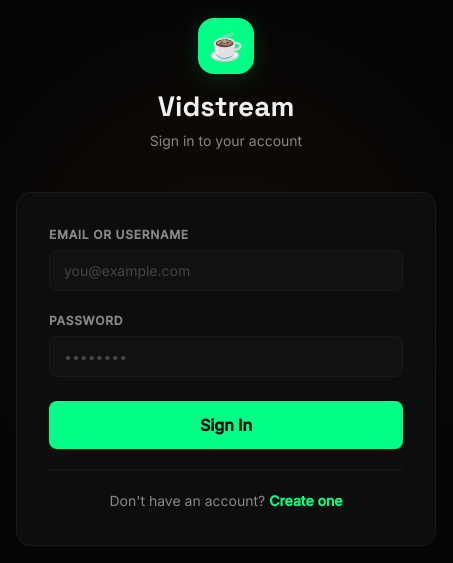
Login component › shows loading spinner during submission
Type "user@example.com" into the field with placeholder "you@example.com".
click(226, 271); type("user@example.com")  # box x1=49 y1=250 x2=403 y2=291
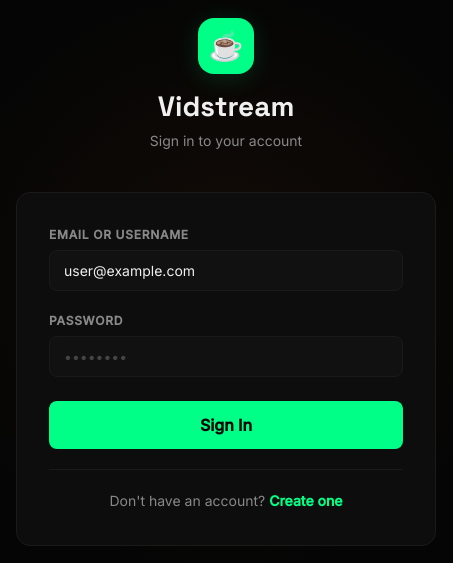
Type "password123" into the password field with placeholder "••••••••".
click(226, 357); type("password123")  # box x1=49 y1=336 x2=403 y2=378
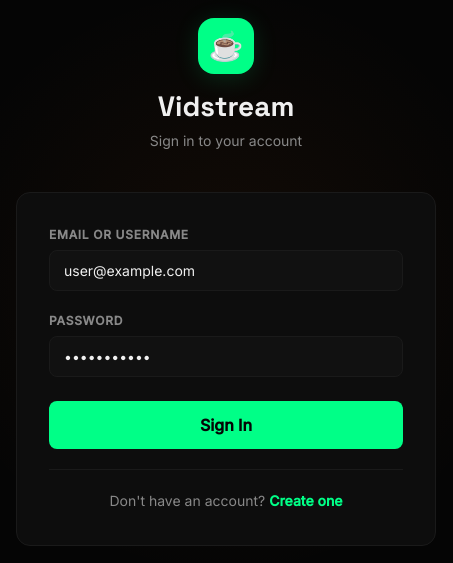
Click the button "Sign In".
click(226, 426)  # box x1=49 y1=402 x2=403 y2=450
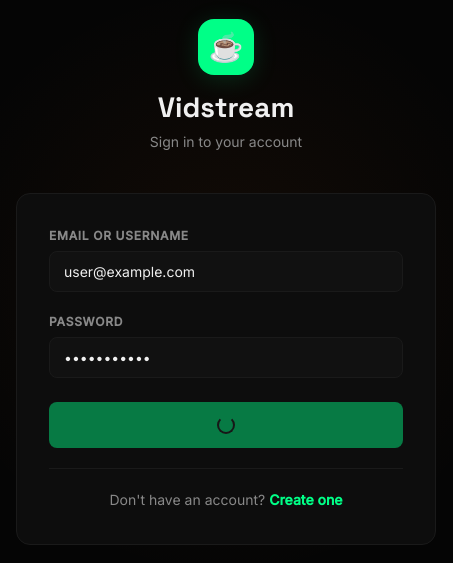
Check: the button is disabled, box x1=49 y1=402 x2=403 y2=448
